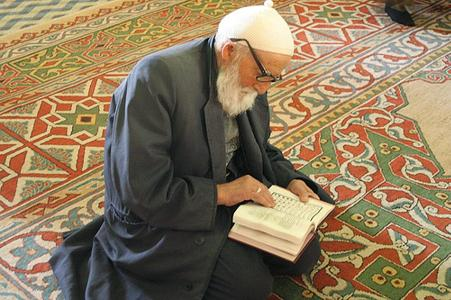person: (52, 4, 341, 299)
